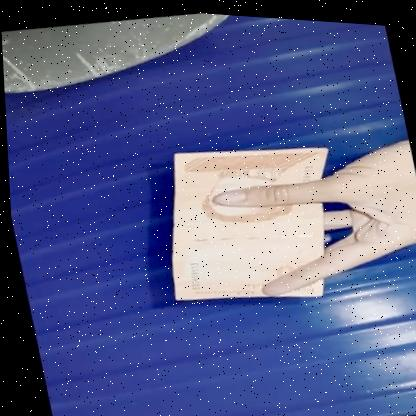twenty-front-vef: (142, 124, 355, 317)
